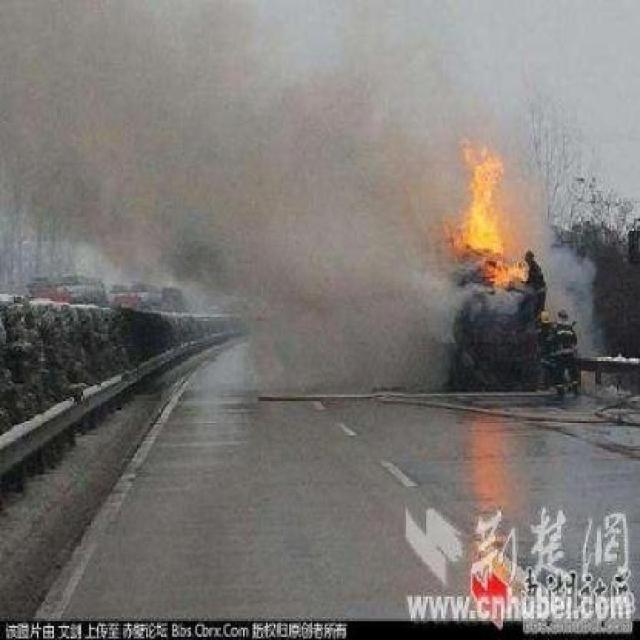Fire: (428, 120, 578, 332)
Smoke: (29, 6, 454, 400)
